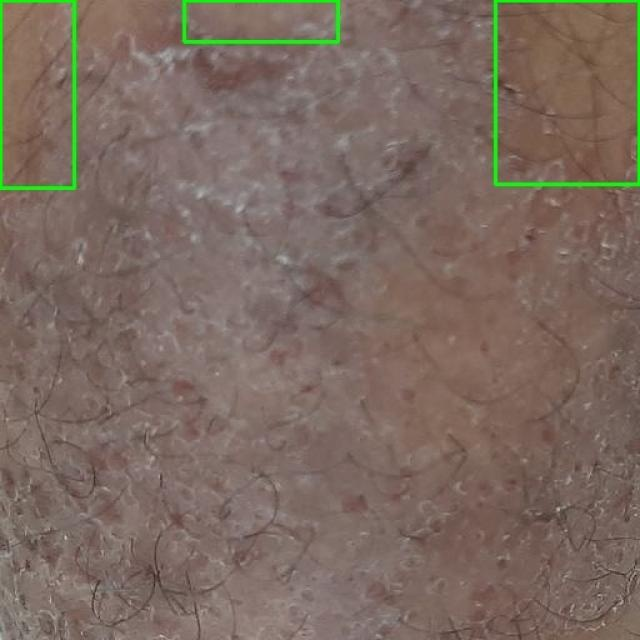Eczema: (495, 0, 639, 184), (0, 0, 74, 188), (184, 0, 338, 41)
